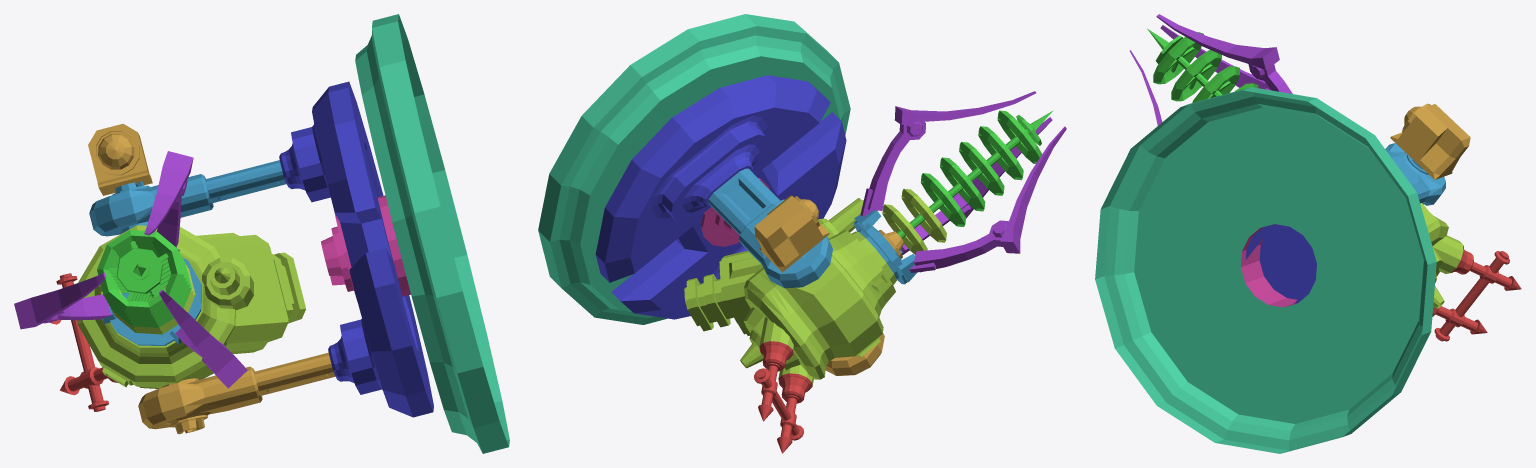
The model's file is seg_pump_meshfm.glb.
3 views of the same model, side by side, from view 1: azimuth 30°, elevation 25°; view 2: azimuth 150°, elevation 25°; view 3: azimuth 270°, elevation 25° (orthographic). The views are drawn at different scales.
Visible parts, largest first — view 1: world; view 2: world; view 3: world.
Boxes of the visible parts, left/top/right/bottom form: world: left=14, top=14, right=509, bottom=453; world: left=538, top=14, right=1066, bottom=453; world: left=1095, top=14, right=1521, bottom=453.
Bounding box in the file's own units: 1.68 × 1.24 × 1.47.
